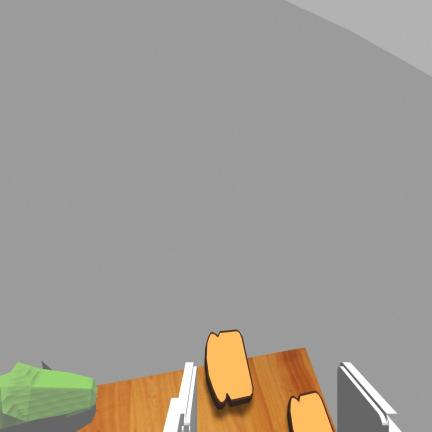lettuce: (0, 362, 97, 431)
sliced_bread: (205, 330, 252, 409), (287, 391, 332, 431)
